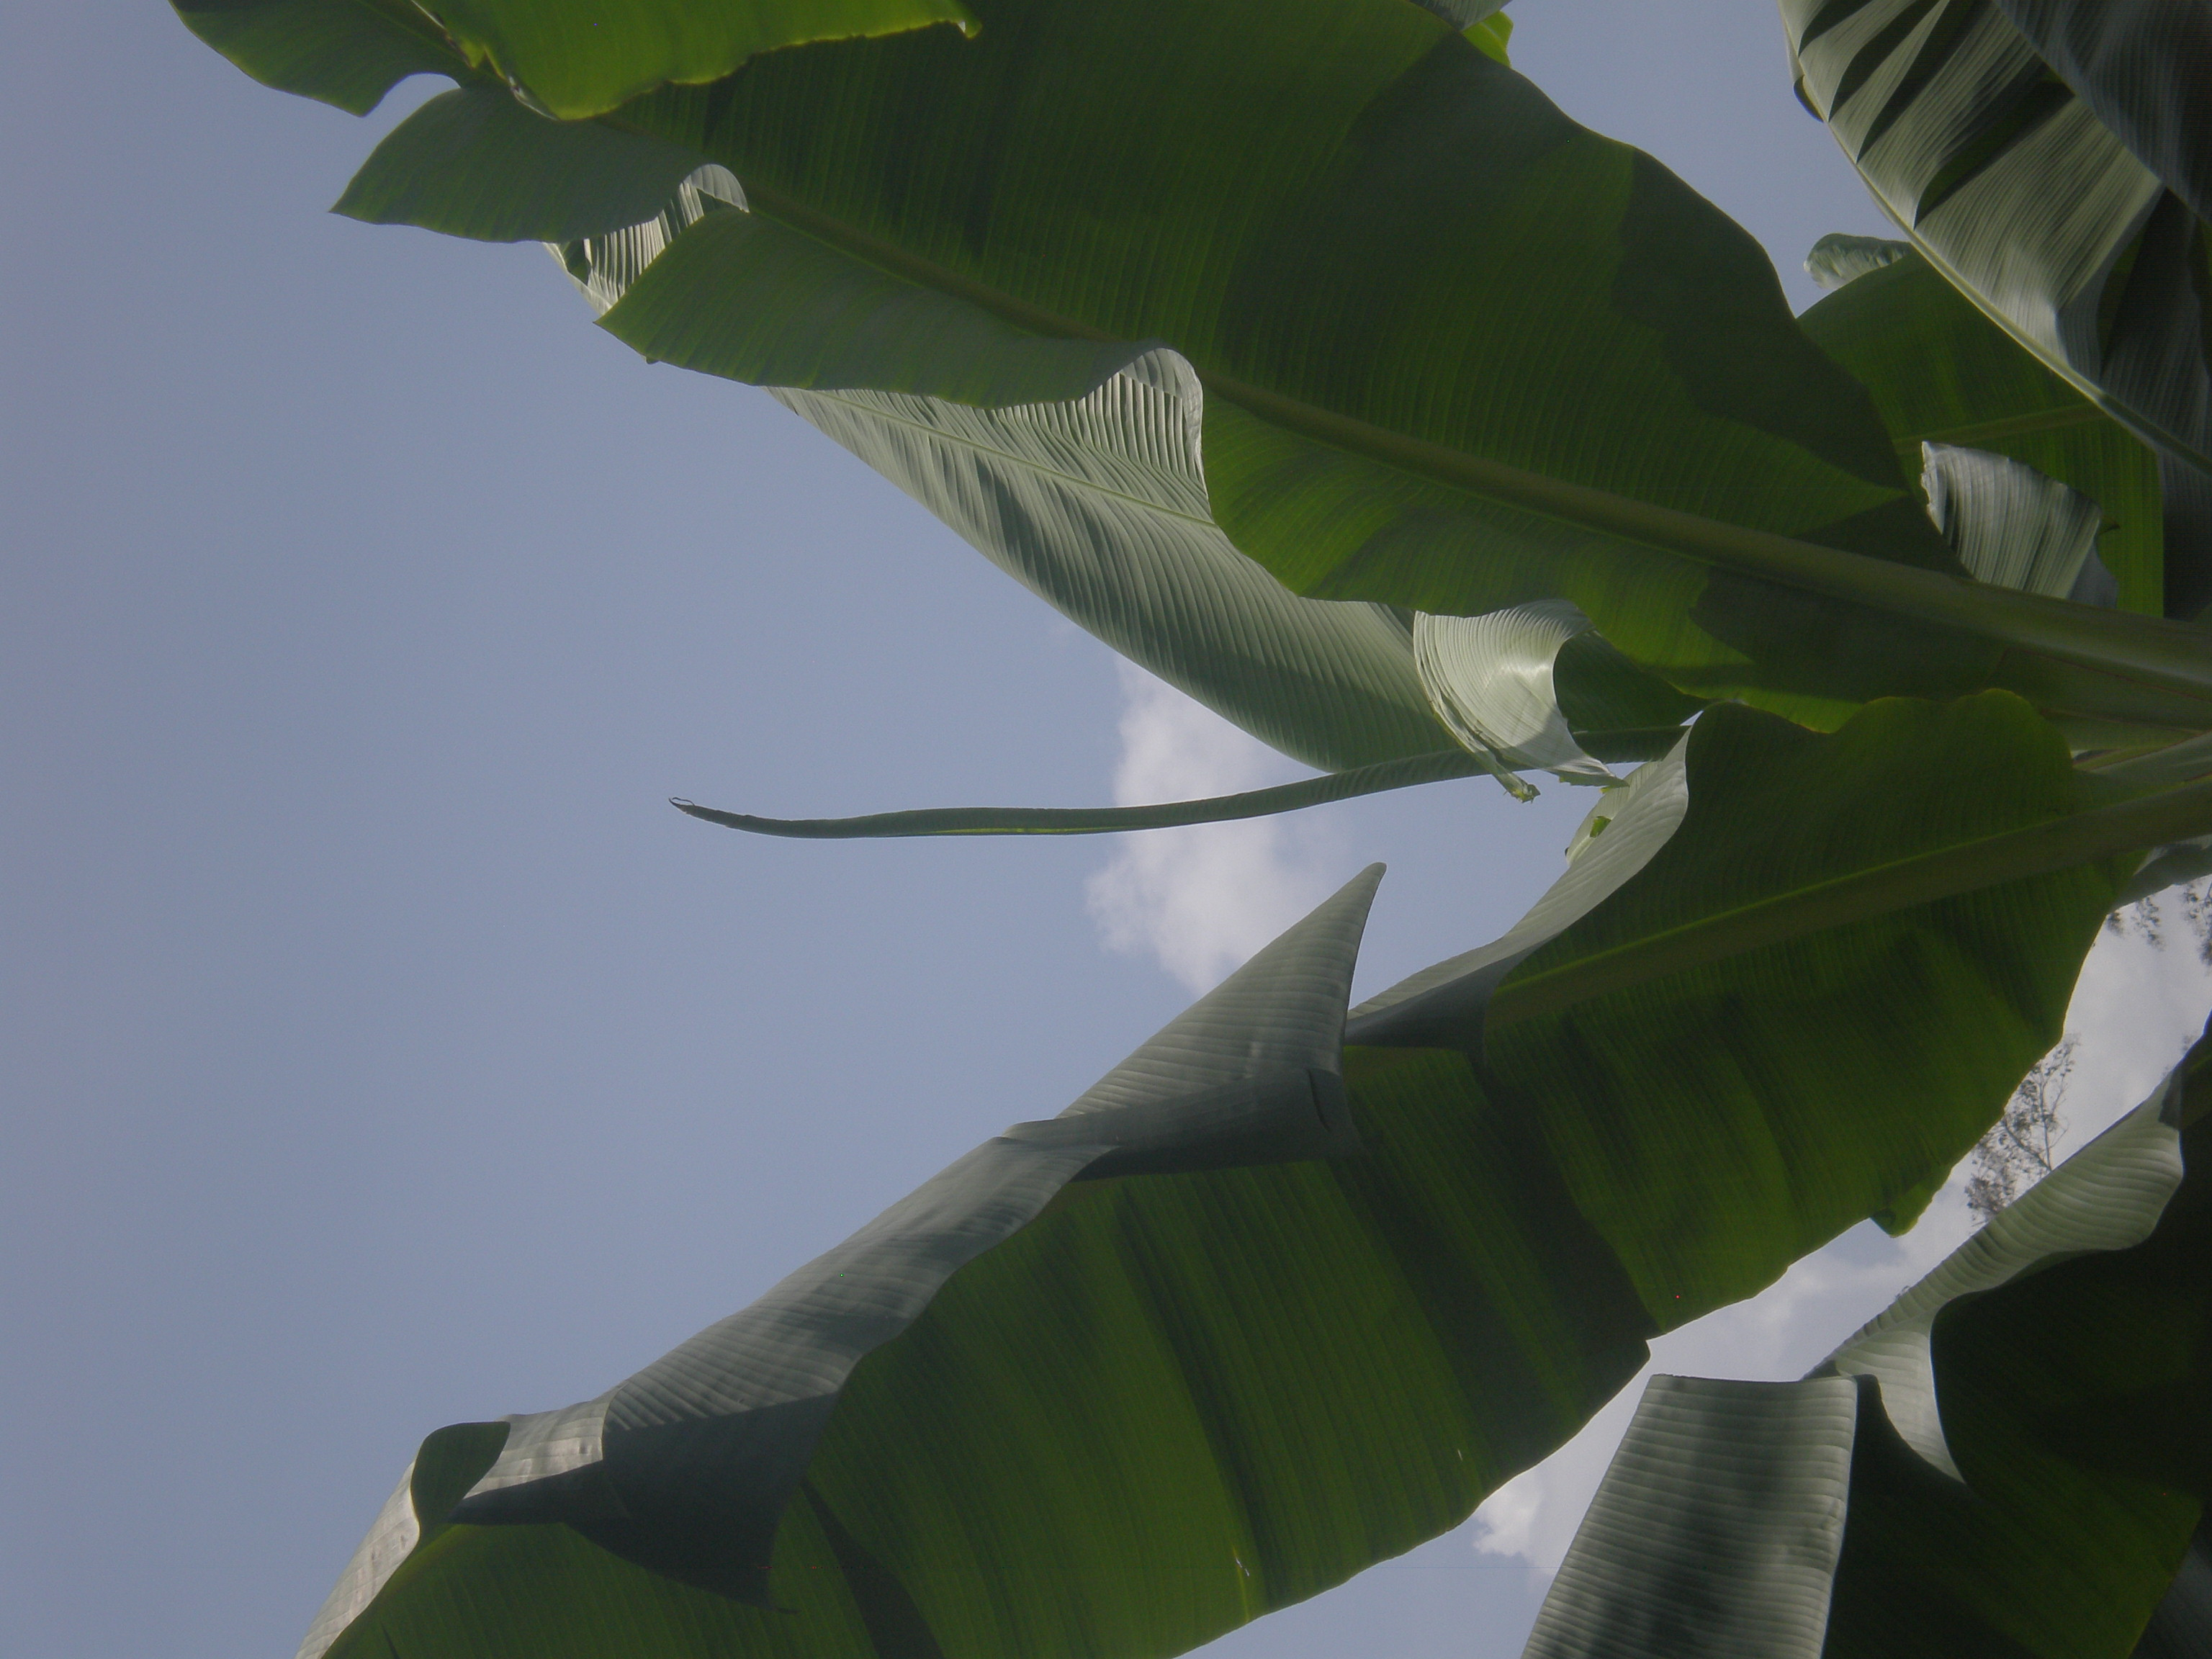candleleafs: (671, 746, 1475, 849)
